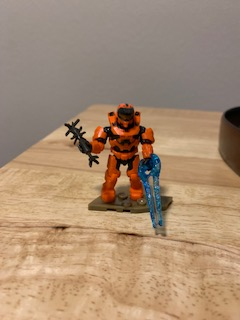spartan: (79, 102, 159, 203)
